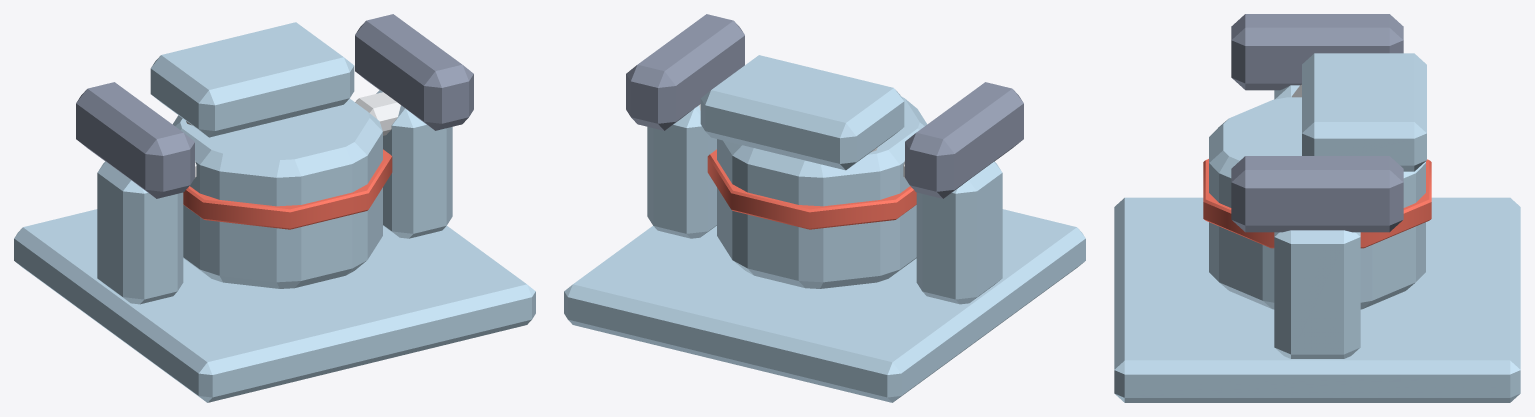
The model's file is R4X_OffensiveTurretDeployer_LOD1.glb.
3 renders of one model, left to right at view 1: azimuth 30°, elevation 25°; view 2: azimuth 150°, elevation 25°; view 3: azimuth 270°, elevation 25°, orthographic. The views are drawn at different scales.
Parts seen in each view (by area): view 1: R4X_OffensiveTurretDeployer_LOD1; view 2: R4X_OffensiveTurretDeployer_LOD1; view 3: R4X_OffensiveTurretDeployer_LOD1.
Boxes of the visible parts, x1,y1,x2,y2 form: R4X_OffensiveTurretDeployer_LOD1: (14, 14, 535, 402); R4X_OffensiveTurretDeployer_LOD1: (564, 14, 1085, 402); R4X_OffensiveTurretDeployer_LOD1: (1114, 14, 1520, 402).
Size of the model in its own units: 0.52 by 0.33 by 0.52.
